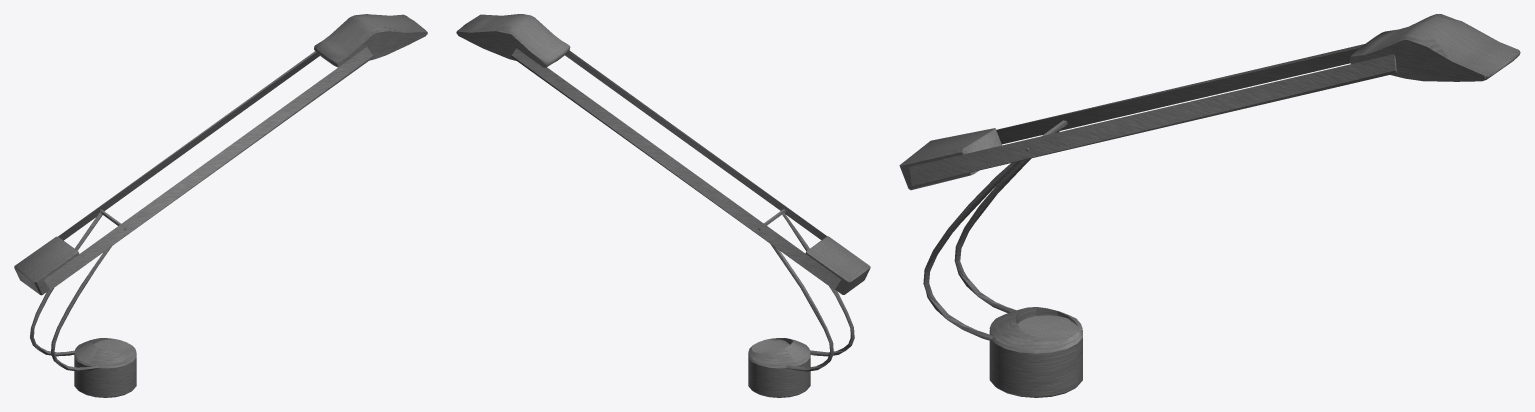
File: Lamp 1.FBX
3 views of the same model, side by side, from view 1: azimuth 30°, elevation 25°; view 2: azimuth 150°, elevation 25°; view 3: azimuth 330°, elevation 25° (orthographic). The views are drawn at different scales.
Parts seen in each view (by area): view 1: Lamp 1; view 2: Lamp 1; view 3: Lamp 1.
Boxes of the visible parts, x1,y1,x2,y2 form: Lamp 1: (14,14,427,397); Lamp 1: (456,14,870,397); Lamp 1: (899,14,1520,397).
Bounding box in the file's own units: 725 × 99.44 × 528.
2 materials, 1 textured.
